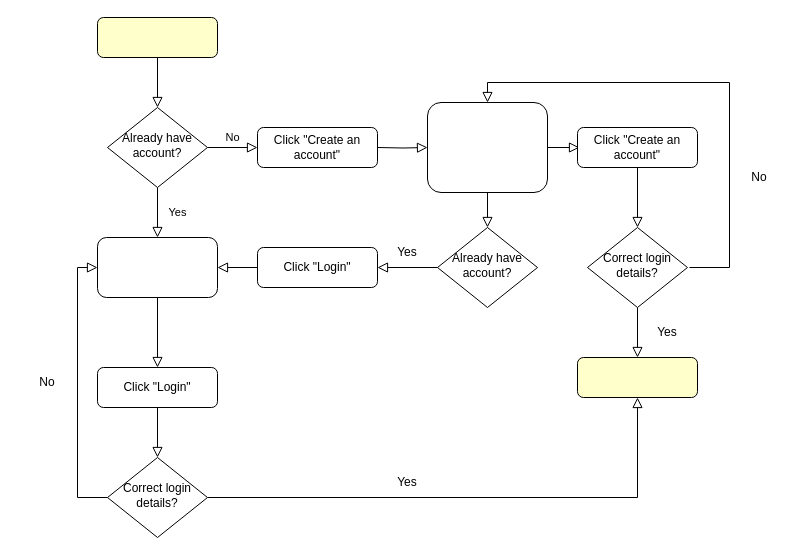
Image size: 806x555. Some labels were removed from this diagram. Each missing label, with the centre of its shape:
Enter email and password: the point at 157,267
Fill in: First name Last name Email Password: the point at 487,147
Homepage: the point at 637,377
Open app - login landing page: the point at 157,37
